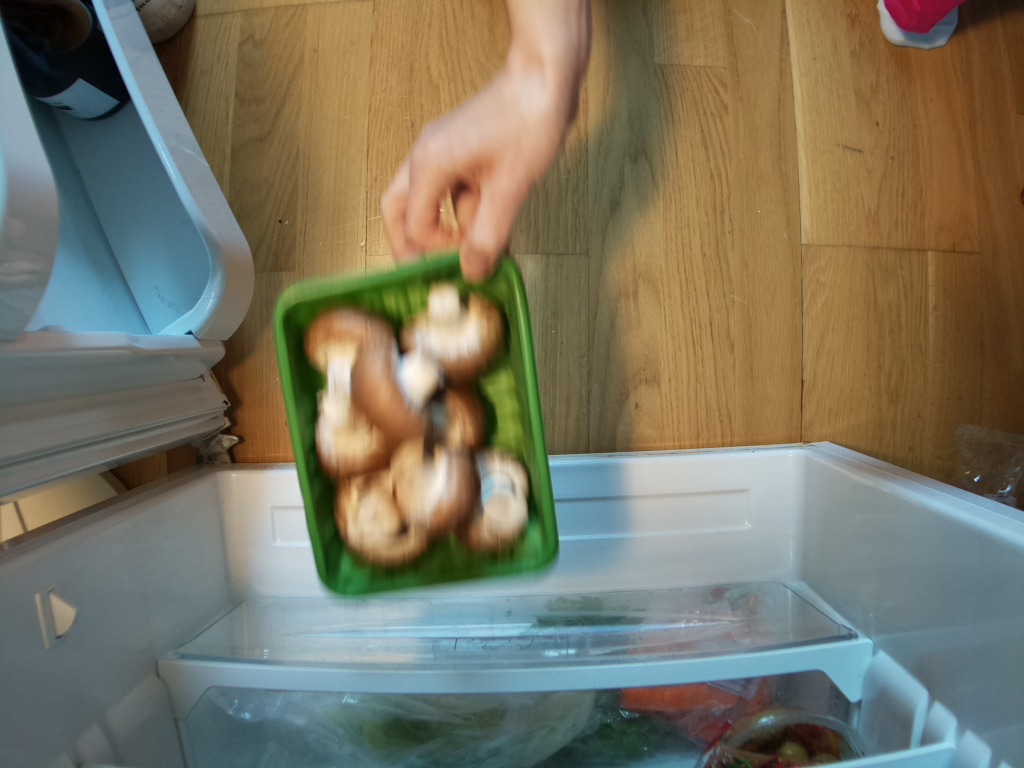mushrooms: (278, 244, 569, 611)
